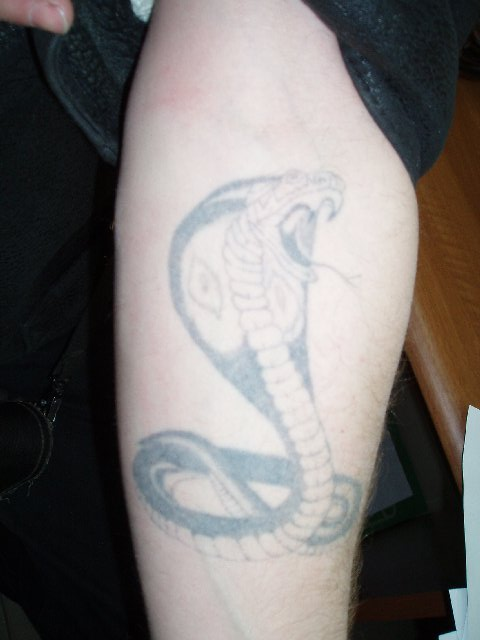tatu7_zmeya: (145, 137, 364, 570)
